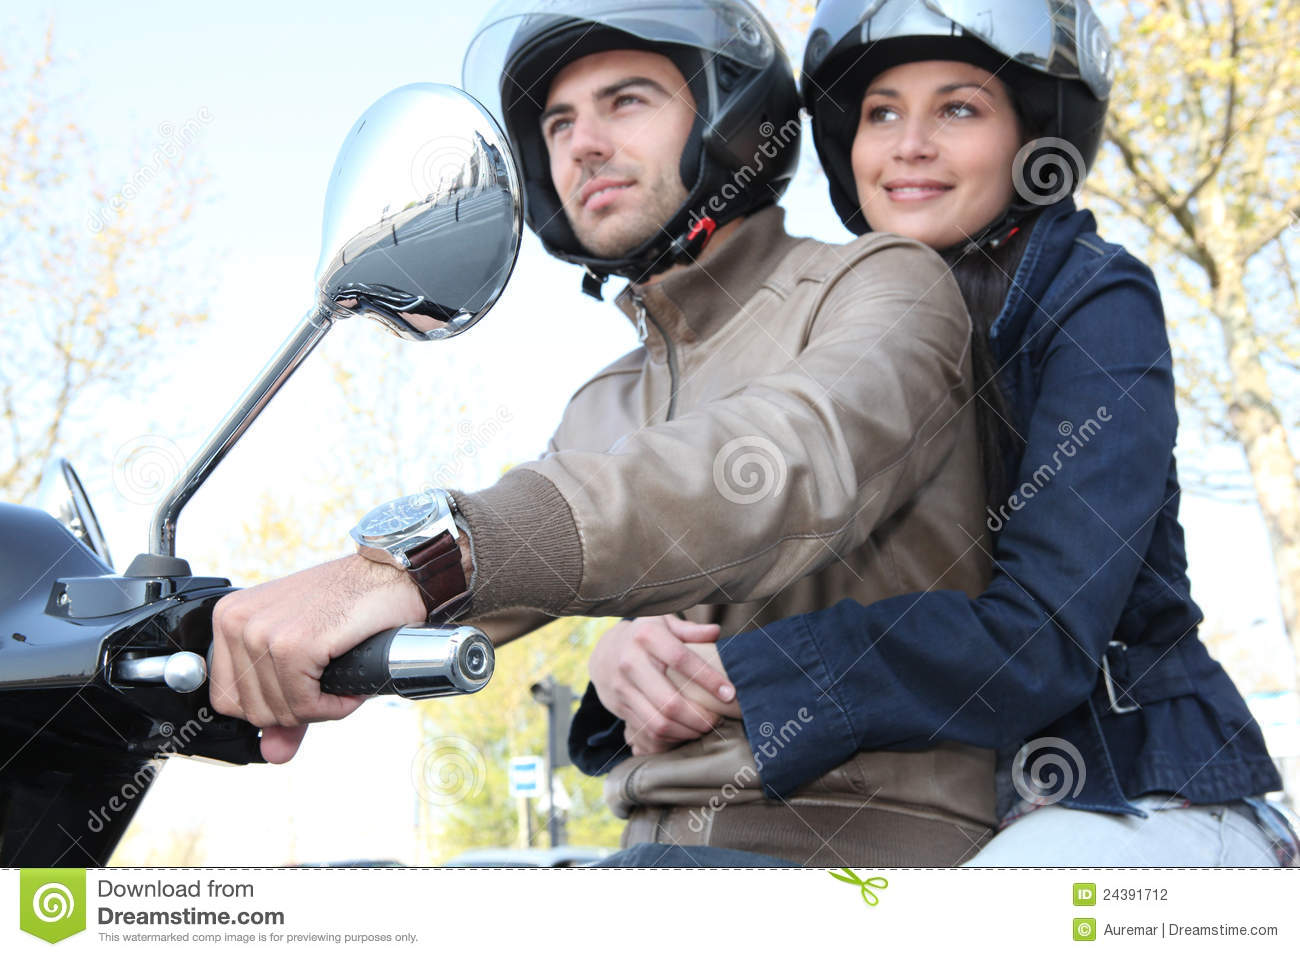helmet: (485, 5, 810, 198), (789, 4, 1130, 135)
